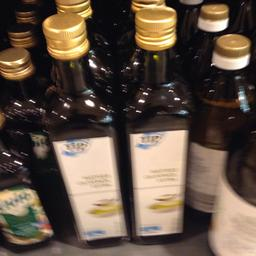oil: (36, 12, 130, 244), (118, 6, 188, 242)
